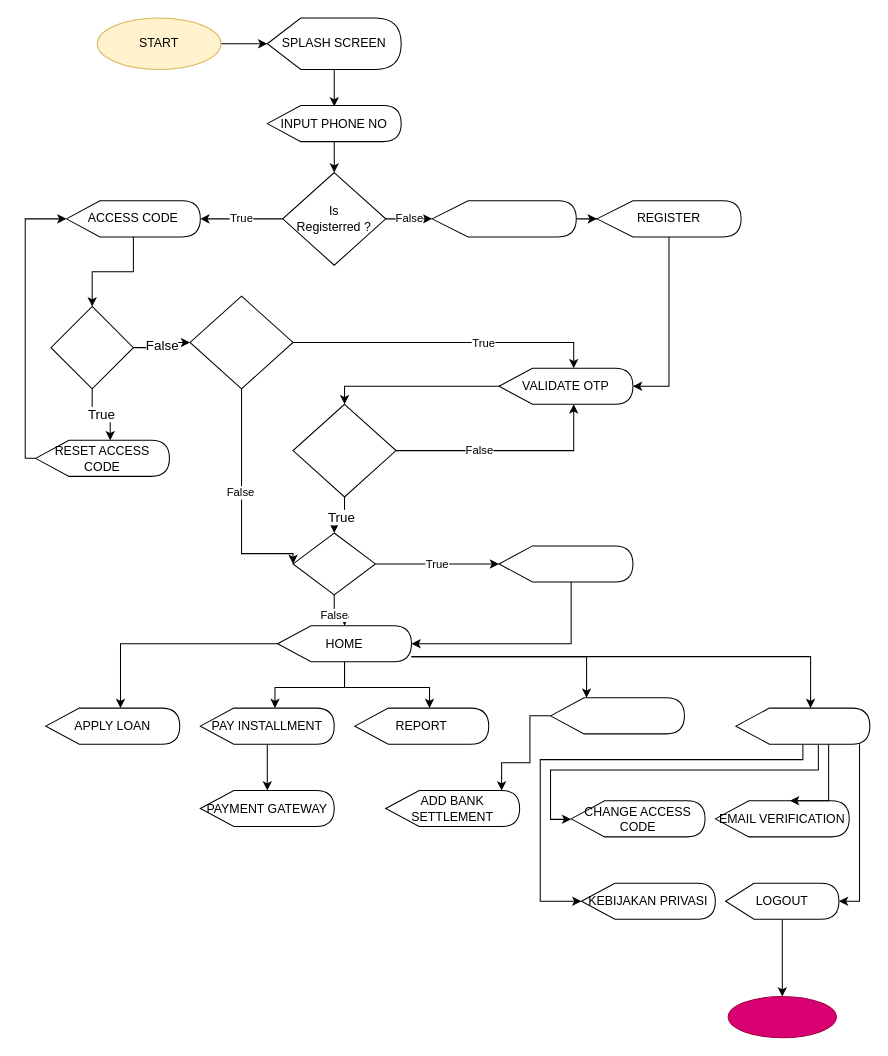
This 888x1056 diagram has some shape labels left out. Here are the shapes that lost their labels. From the top down, the centre of each, then its label:
At (x=503, y=218): "TERM & CONDITION".
At (x=91, y=347): "Forgot ?".
At (x=241, y=342): "Different Device ?".
At (x=344, y=450): "CHECK OTP ?".
At (x=333, y=563): "Biometric ?".
At (x=565, y=563): "BIOMETRIC LOGIN".
At (x=617, y=715): "SETTLEMENT TO BANK ACCOUNT".
At (x=802, y=725): "PROFILE".
At (x=781, y=1016): "STOP".
